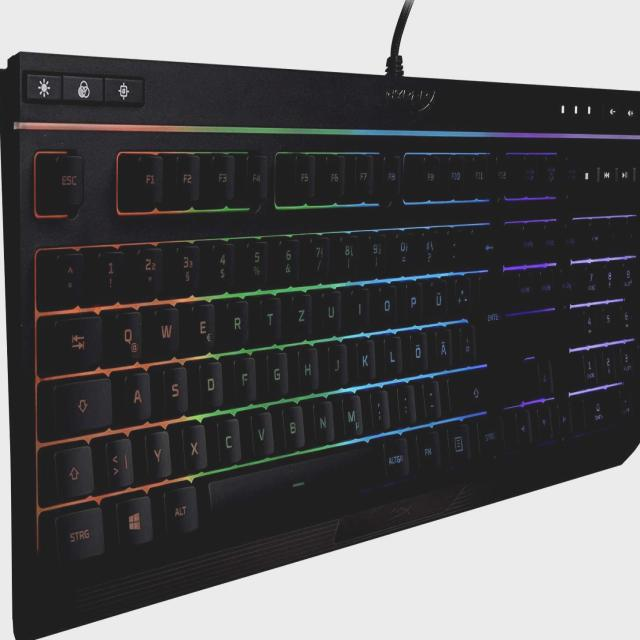0: (393, 228, 413, 272)
1: (96, 247, 124, 299)
2: (135, 243, 163, 295)
3: (174, 241, 200, 292)
4: (210, 239, 235, 288)
5: (245, 238, 269, 286)
6: (277, 235, 301, 283)
7: (308, 233, 330, 279)
8: (337, 232, 359, 278)
9: (366, 230, 387, 275)
a: (123, 367, 151, 420)
accent: (445, 226, 463, 266)
ae: (434, 325, 453, 367)
alt-left: (162, 480, 199, 534)
altgr-right: (381, 435, 409, 478)
b: (280, 402, 304, 448)
c: (215, 415, 241, 463)
caret: (55, 248, 84, 302)
comma: (368, 386, 389, 429)
d: (198, 357, 223, 407)
del: (469, 224, 509, 264)
e: (189, 299, 215, 349)
enter: (478, 267, 506, 360)
f: (232, 353, 256, 401)
g: (264, 348, 288, 395)
h: (296, 343, 318, 390)
hash: (458, 321, 476, 362)
i: (349, 284, 369, 328)
j: (326, 340, 347, 385)
k: (355, 335, 375, 380)
keyboard: (18, 124, 640, 600)
l: (382, 333, 402, 375)
less: (104, 432, 134, 486)
m: (340, 391, 363, 435)
minus: (421, 377, 441, 416)
n: (311, 397, 334, 441)
o: (377, 282, 397, 324)
oe: (408, 328, 428, 371)
p: (404, 279, 423, 321)
plus: (454, 274, 471, 314)
point: (396, 381, 416, 422)
q: (113, 306, 142, 361)
r: (225, 296, 249, 345)
s: (161, 362, 189, 414)
shift-left: (53, 440, 95, 498)
shift-lock: (52, 373, 113, 433)
shift-right: (446, 366, 506, 414)
space: (207, 437, 377, 523)
ss: (419, 228, 439, 270)
strg-left: (52, 500, 106, 564)
strg-right: (475, 414, 506, 454)
t: (258, 292, 282, 340)
tab: (53, 311, 103, 369)
u: (320, 286, 342, 332)
ue: (429, 276, 447, 318)
v: (249, 407, 274, 454)
w: (152, 302, 180, 355)
x: (181, 420, 208, 468)
y: (144, 426, 172, 477)
z: (290, 289, 312, 337)
